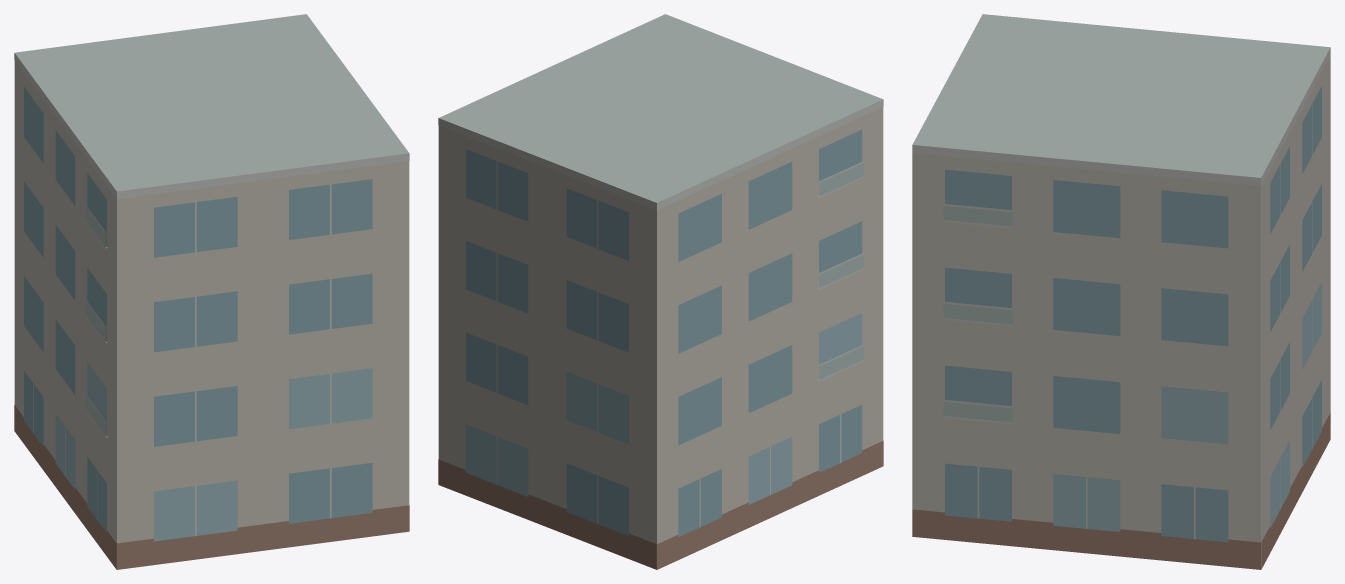
The model's file is residential-91eb5993-7852-4ae2-9ef2-f9c9e8f085d8.glb.
3 renders of one model, left to right at view 1: azimuth 30°, elevation 25°; view 2: azimuth 150°, elevation 25°; view 3: azimuth 270°, elevation 25°, orthographic. The views are drawn at different scales.
Visible parts, largest first — view 1: residential-91eb5993-7852-4ae2-9ef2-f9c9e8f085d8.tmp; view 2: residential-91eb5993-7852-4ae2-9ef2-f9c9e8f085d8.tmp; view 3: residential-91eb5993-7852-4ae2-9ef2-f9c9e8f085d8.tmp.
Boxes of the visible parts, left/top/right/bottom form: residential-91eb5993-7852-4ae2-9ef2-f9c9e8f085d8.tmp: left=14, top=14, right=409, bottom=569; residential-91eb5993-7852-4ae2-9ef2-f9c9e8f085d8.tmp: left=438, top=14, right=883, bottom=569; residential-91eb5993-7852-4ae2-9ef2-f9c9e8f085d8.tmp: left=912, top=14, right=1330, bottom=569.
Size of the model in its own units: 10.96 by 12.2 by 11.81.
